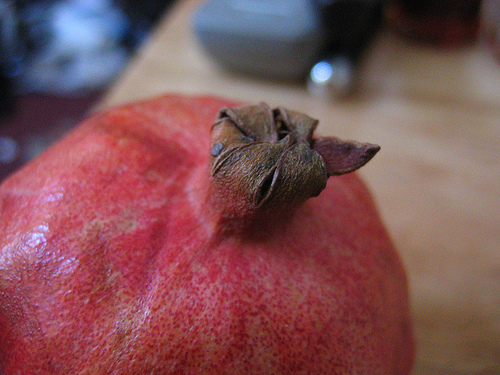pomogranate: (2, 91, 415, 374)
